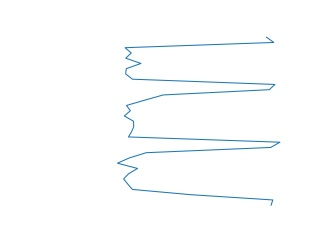majorRiverChannelBar: (116, 37, 282, 205)
